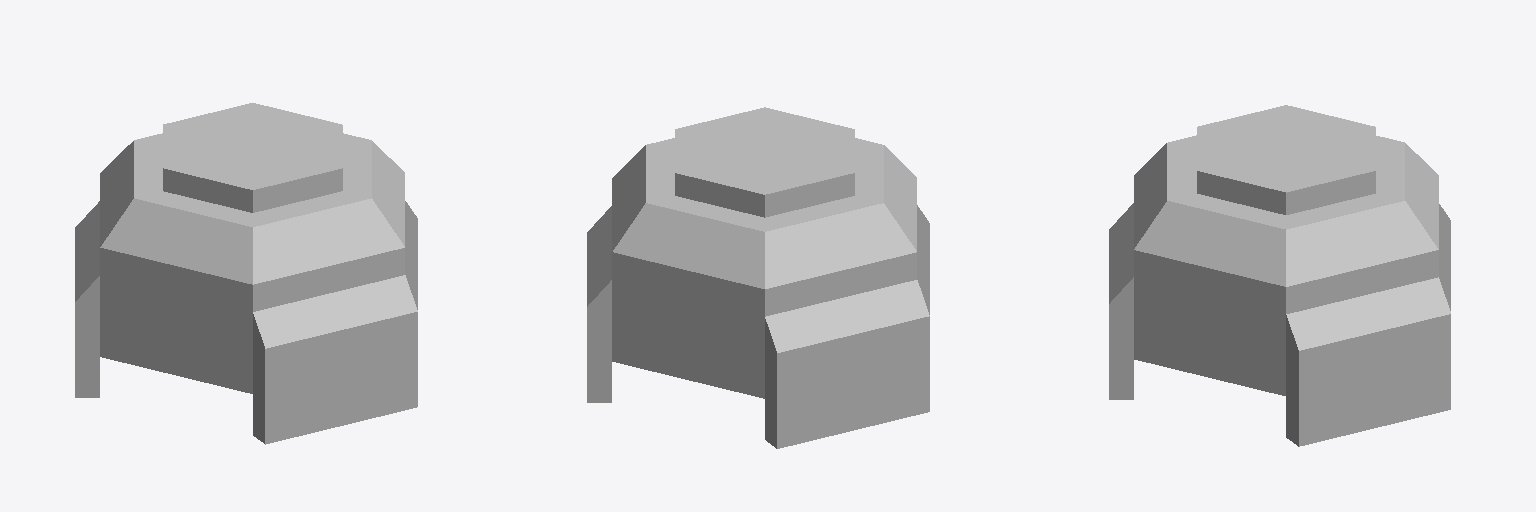
The model's file is barrelLarge.obj.
3 views of the same model, side by side, from view 1: azimuth 30°, elevation 25°; view 2: azimuth 150°, elevation 25°; view 3: azimuth 270°, elevation 25° (orthographic).
Parts seen in each view (by area): view 1: barrelLarge; view 2: barrelLarge; view 3: barrelLarge.
Part boxes in pixels (bbox=[...]): barrelLarge: bbox=[75, 103, 417, 444]; barrelLarge: bbox=[587, 107, 929, 448]; barrelLarge: bbox=[1109, 105, 1450, 446].
Size of the model in its own units: 7.87 by 4.7 by 6.81.